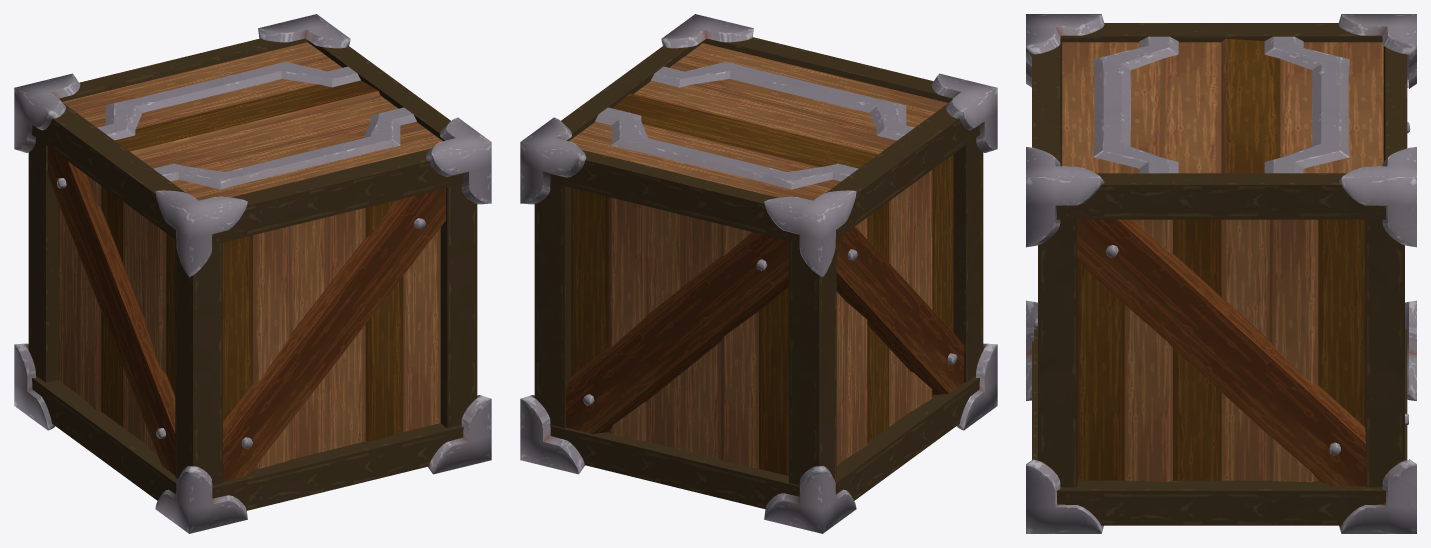
Rendered from prop_crate_metal.glb.
The picture shows the model from 3 angles, left to right: view 1: azimuth 30°, elevation 25°; view 2: azimuth 150°, elevation 25°; view 3: azimuth 270°, elevation 25°; orthographic projection. The views are drawn at different scales.
Parts seen in each view (by area): view 1: Crate_Metal; view 2: Crate_Metal; view 3: Crate_Metal.
Part boxes in pixels (<box>): Crate_Metal: <box>14,14,491,533</box>; Crate_Metal: <box>520,14,997,533</box>; Crate_Metal: <box>1026,14,1416,533</box>.
Bounding box in the file's own units: 0.8639 × 0.8679 × 0.8659.
Materials: 2 (2 with a texture image).
